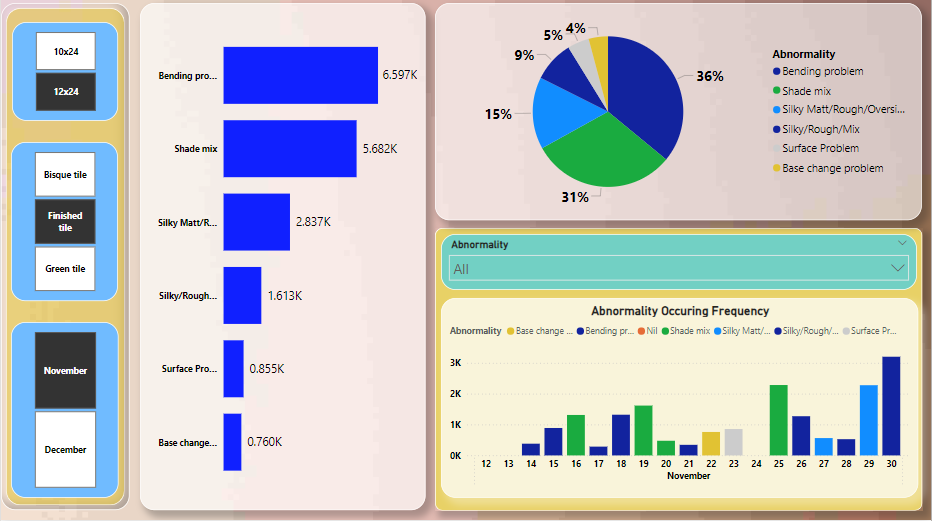

The page's visual inventory and layout, read from the dashboard file:
{"tool":"powerbi","page":{"name":"Page 1","canvas":[1280,720],"ordinal":0},"visuals":[{"type":"clusteredBarChart","fields":{"Y":["Sum(QC Analysis report pbix.Hold stock (sqm))"],"Category":["QC Analysis report pbix.Abnormality"]},"box":[191.5,10.1,393.1,698.4],"z":0},{"type":"shape","box":[0,10.1,177.1,698.4],"z":1000},{"type":"slicer","fields":{"Values":["QC Analysis report pbix.Size"]},"box":[15,36.2,146.2,136.2],"z":2000},{"type":"slicer","fields":{"Values":["QC Analysis report pbix.Type"]},"box":[13.7,200.4,146.9,218.9],"z":3000},{"type":"shape","box":[597.8,318.9,670.7,389],"z":4000},{"type":"slicer","fields":{"Values":["QC Analysis report pbix.Abnormality"]},"box":[605.7,327.5,655,77.5],"z":5000},{"type":"lineStackedColumnComboChart","title":"Abnormality Occuring Frequency","fields":{"Category":["QC Analysis report pbix.Date.Variation.Date Hierarchy.Month","QC Analysis report pbix.Date.Variation.Date Hierarchy.Day"],"Y":["Sum(QC Analysis report pbix.Hold stock (sqm))"],"Series":["QC Analysis report pbix.Abnormality"]},"box":[605.7,415.5,656.7,274.7],"z":6000},{"type":"slicer","fields":{"Values":["QC Analysis report pbix.Date.Variation.Date Hierarchy.Month"]},"box":[13.5,448.7,147.8,241.9],"z":7000},{"type":"pieChart","fields":{"Y":["Sum(QC Analysis report pbix.Hold stock (sqm))"],"Category":["QC Analysis report pbix.Abnormality"]},"box":[598,10.1,670.2,299],"z":8000}]}

Visuals, with their boxes in screenshot pixels (x1, y1, x2, y2), scaled from the page's 1280x720 canvas onto the 933x521 screenshot:
clusteredBarChart - Sum(QC Analysis report pbix.Hold stock (sqm)) x QC Analysis report pbix.Abnormality: (x1=140, y1=7, x2=426, y2=513)
shape: (x1=0, y1=7, x2=129, y2=513)
slicer - QC Analysis report pbix.Size: (x1=11, y1=26, x2=117, y2=125)
slicer - QC Analysis report pbix.Type: (x1=10, y1=145, x2=117, y2=303)
shape: (x1=436, y1=231, x2=925, y2=512)
slicer - QC Analysis report pbix.Abnormality: (x1=441, y1=237, x2=919, y2=293)
"Abnormality Occuring Frequency" lineStackedColumnComboChart: (x1=441, y1=301, x2=920, y2=499)
slicer - QC Analysis report pbix.Date.Variation.Date Hierarchy.Month: (x1=10, y1=325, x2=118, y2=500)
pieChart - Sum(QC Analysis report pbix.Hold stock (sqm)) x QC Analysis report pbix.Abnormality: (x1=436, y1=7, x2=924, y2=224)
